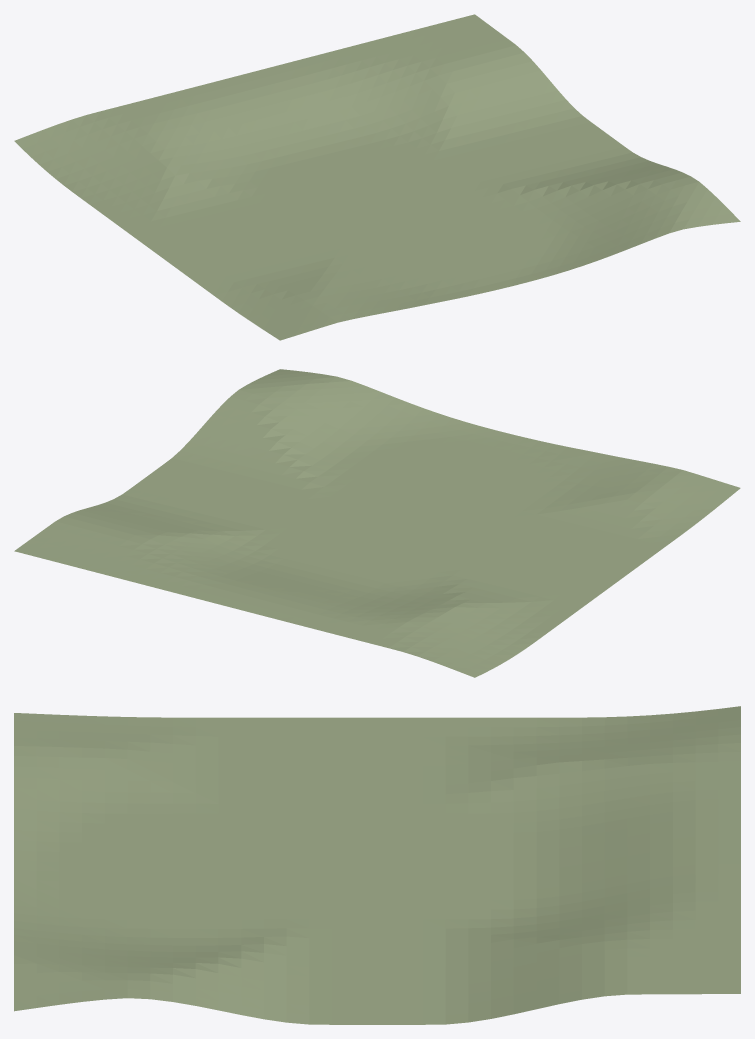
The model's file is gardens-5-1.glb.
3 views of the same model, one above another, from view 1: azimuth 30°, elevation 25°; view 2: azimuth 150°, elevation 25°; view 3: azimuth 270°, elevation 25° (orthographic). The views are drawn at different scales.
Parts seen in each view (by area): view 1: gardens-5-1; view 2: gardens-5-1; view 3: gardens-5-1.
Boxes of the visible parts, x1,y1,x2,y2 form: gardens-5-1: (14, 14, 740, 340); gardens-5-1: (14, 369, 740, 677); gardens-5-1: (14, 706, 740, 1024).
Size of the model in its own units: 256 by 12 by 256.
